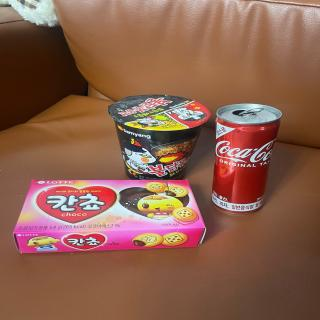cocacola: (206, 102, 289, 217)
